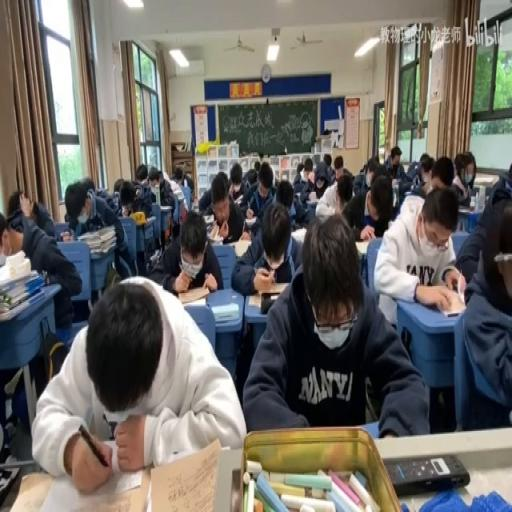calculator: (147, 436, 224, 512), (429, 286, 467, 317), (0, 268, 40, 294), (177, 283, 210, 304), (210, 300, 238, 322), (233, 236, 251, 258), (133, 214, 156, 228), (290, 225, 306, 243), (354, 238, 370, 254), (148, 247, 160, 266), (171, 184, 185, 200), (206, 233, 222, 245), (202, 213, 214, 225), (458, 203, 474, 212), (243, 215, 256, 226), (305, 196, 319, 205), (160, 203, 172, 212), (192, 200, 198, 212), (403, 191, 414, 196), (294, 190, 300, 198)
paper: (34, 276, 244, 491), (241, 210, 422, 436), (2, 195, 80, 334), (65, 176, 134, 282), (454, 179, 512, 299), (149, 208, 222, 296), (354, 171, 395, 239), (314, 165, 358, 223), (266, 179, 302, 239), (142, 164, 176, 219), (450, 152, 476, 206), (408, 152, 435, 196), (382, 145, 406, 193), (31, 196, 57, 238), (223, 161, 245, 206), (490, 160, 512, 200), (430, 155, 454, 191), (0, 219, 25, 253), (292, 158, 310, 195), (6, 189, 25, 219), (257, 159, 273, 192), (100, 189, 118, 213), (322, 152, 335, 181), (82, 176, 96, 199), (134, 163, 148, 185), (119, 192, 134, 212), (243, 166, 257, 186), (182, 173, 194, 195), (112, 178, 125, 193), (172, 166, 182, 185), (366, 170, 376, 186), (334, 156, 343, 170), (360, 162, 368, 175), (253, 160, 259, 174)
person: (383, 452, 469, 494), (0, 462, 21, 509), (260, 292, 283, 314)
